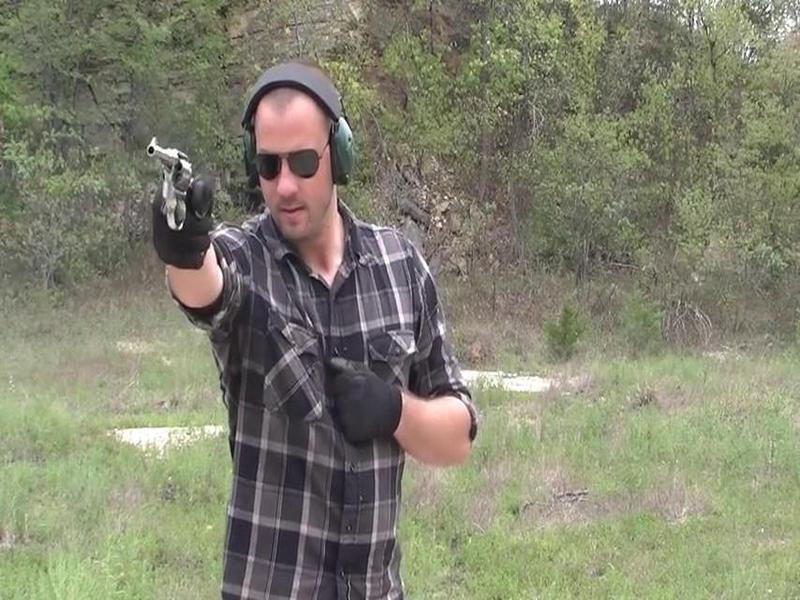Revolver: (145, 124, 207, 240)
